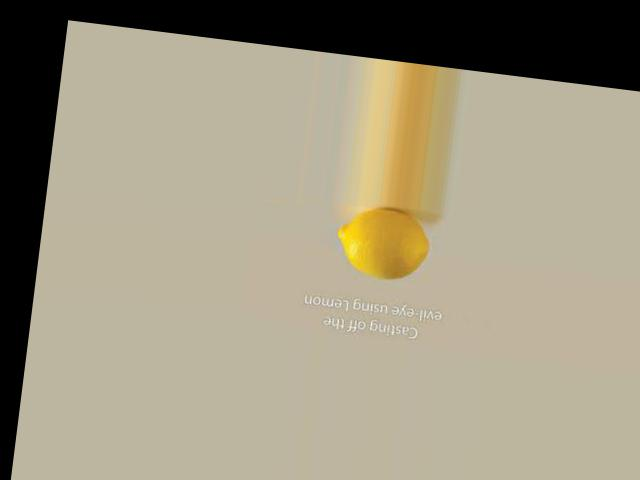lemon: (319, 204, 441, 290)
